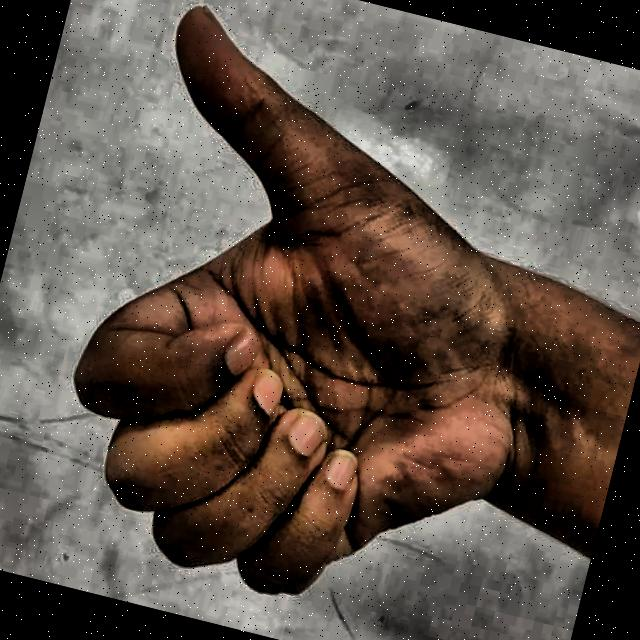Do: (6, 0, 620, 640)
